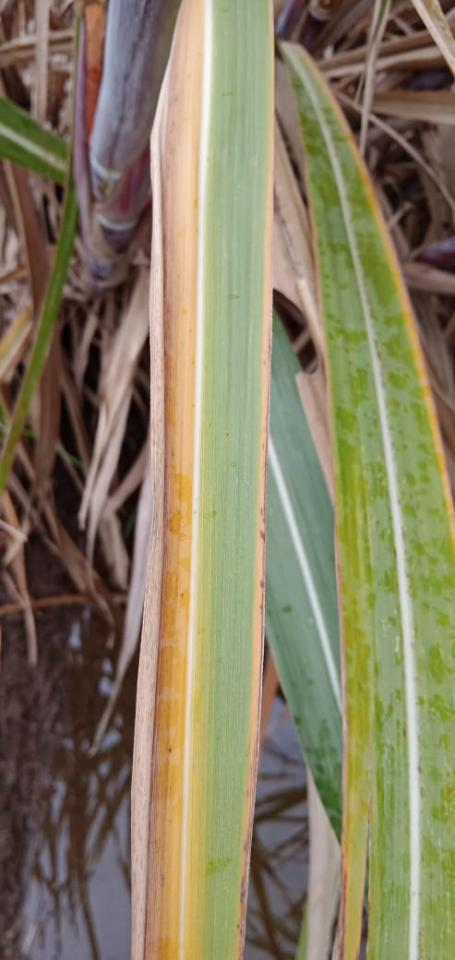Yellow: (131, 0, 204, 959), (239, 1, 274, 959), (183, 447, 208, 959)
